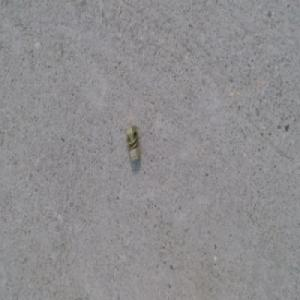BoltNutSet: (125, 125, 141, 160)
